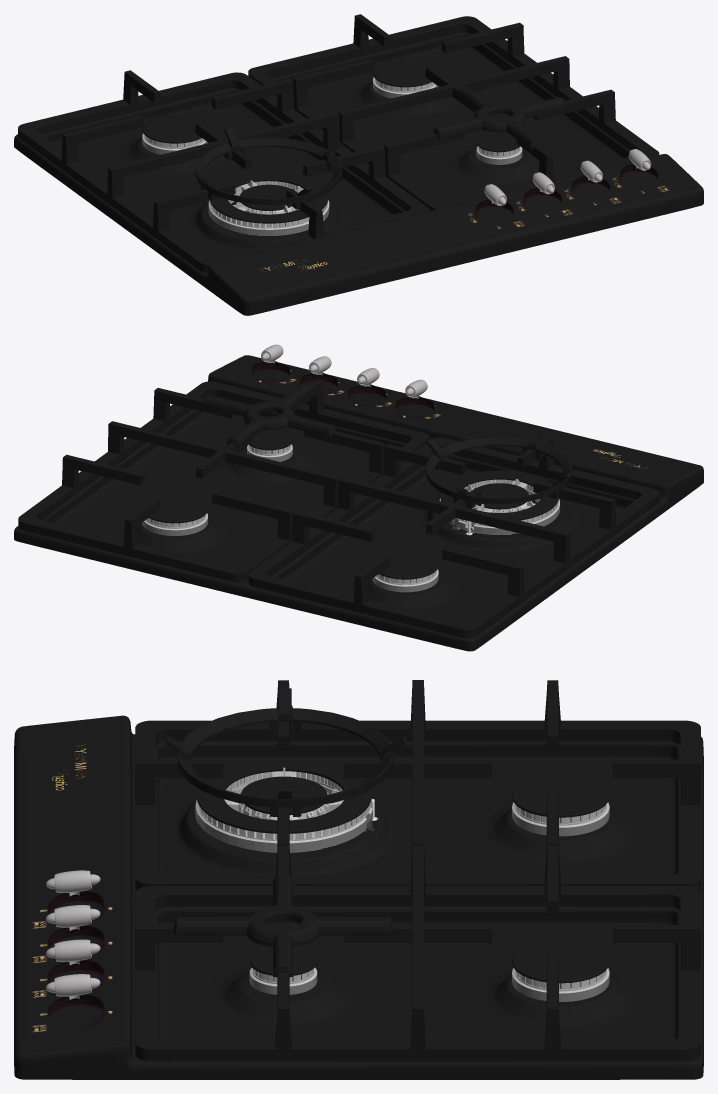
The model's file is Hob_600.glb.
The picture shows the model from 3 angles, top to bottom: view 1: azimuth 30°, elevation 25°; view 2: azimuth 150°, elevation 25°; view 3: azimuth 270°, elevation 25°; orthographic projection. The views are drawn at different scales.
Parts seen in each view (by area): view 1: Rectangle026; view 2: Rectangle026; view 3: Rectangle026.
Part boxes in pixels (left/top/right/bottom): Rectangle026: left=14, top=14, right=703, bottom=315; Rectangle026: left=14, top=344, right=703, bottom=651; Rectangle026: left=14, top=680, right=703, bottom=1079.
Bounding box in the file's own units: 0.5799 × 0.076 × 0.51.
3 materials, 2 textured.
